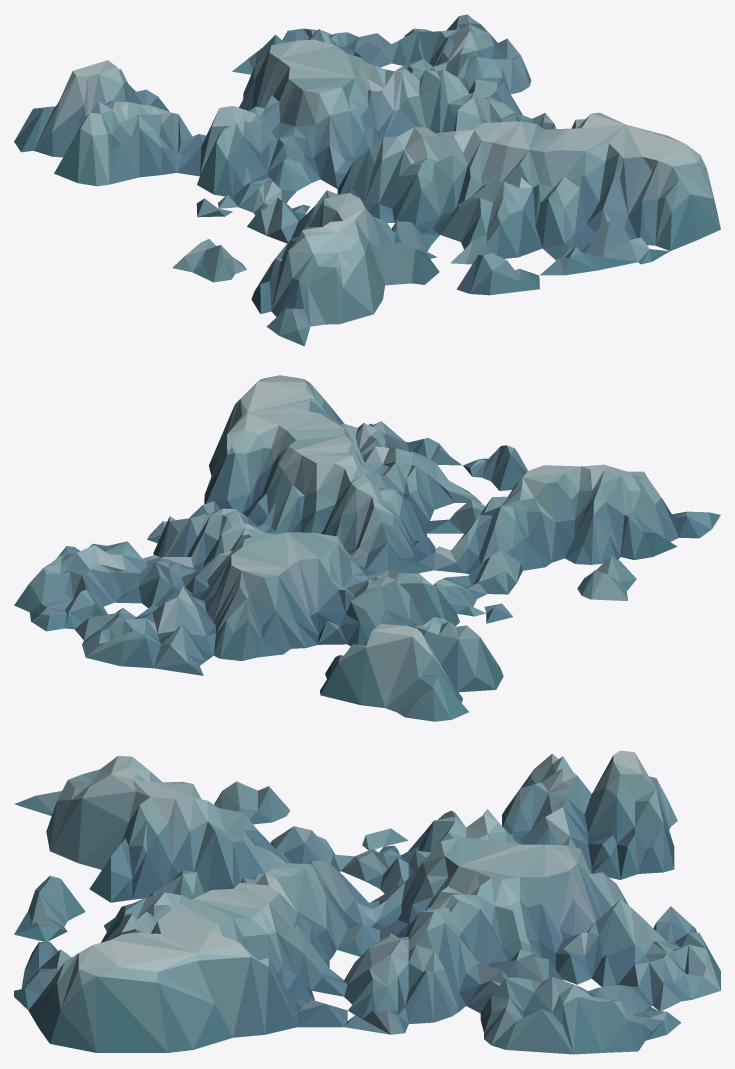
The model's file is Iceberg_B.fbx.
3 views of the same model, one above another, from view 1: azimuth 30°, elevation 25°; view 2: azimuth 150°, elevation 25°; view 3: azimuth 270°, elevation 25° (orthographic). The views are drawn at different scales.
Parts seen in each view (by area): view 1: Iceberg_B; view 2: Iceberg_B; view 3: Iceberg_B.
Boxes of the visible parts, bbox=[...] form: Iceberg_B: bbox=[14, 14, 720, 346]; Iceberg_B: bbox=[14, 375, 720, 721]; Iceberg_B: bbox=[14, 750, 720, 1054].
Size of the model in its own units: 8600 by 1168 by 9850.
